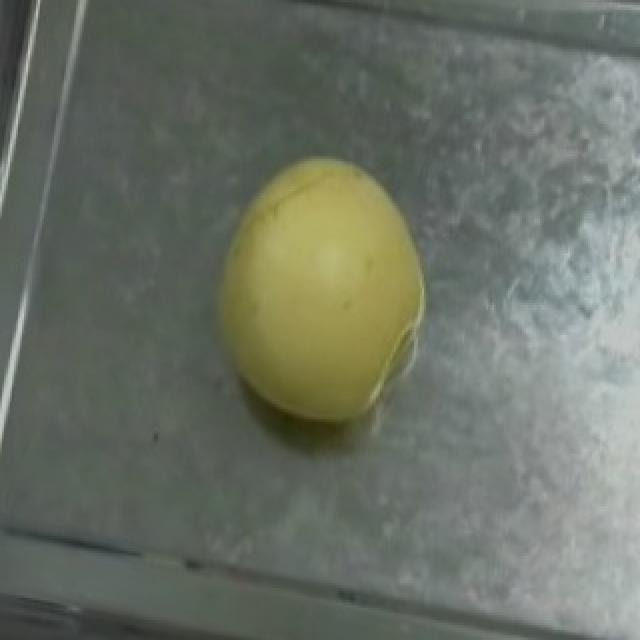Fruit: (180, 136, 452, 449)
